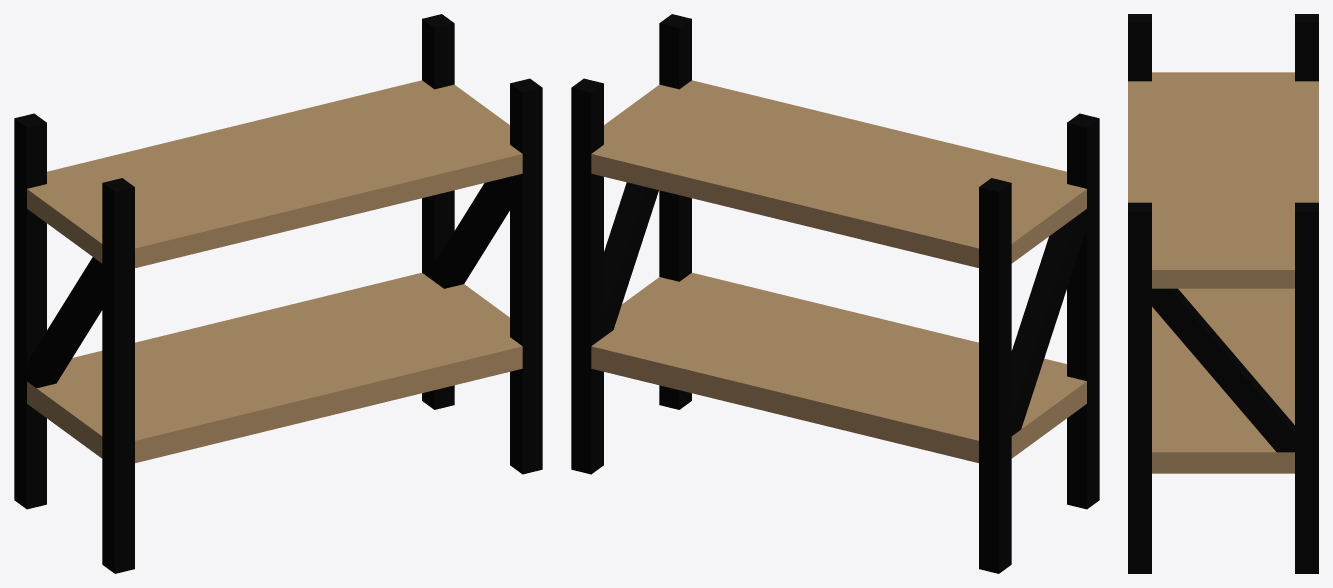
The model's file is shelf.fbx.
3 views of the same model, side by side, from view 1: azimuth 30°, elevation 25°; view 2: azimuth 150°, elevation 25°; view 3: azimuth 270°, elevation 25° (orthographic). The views are drawn at different scales.
Parts seen in each view (by area): view 1: mesh_RackBoxes1; view 2: mesh_RackBoxes1; view 3: mesh_RackBoxes1.
Boxes of the visible parts, x1,y1,x2,y2 form: mesh_RackBoxes1: (14, 14, 542, 573); mesh_RackBoxes1: (571, 14, 1099, 573); mesh_RackBoxes1: (1128, 14, 1318, 573).
Bounding box in the file's own units: 1.96 × 1.67 × 0.8.
